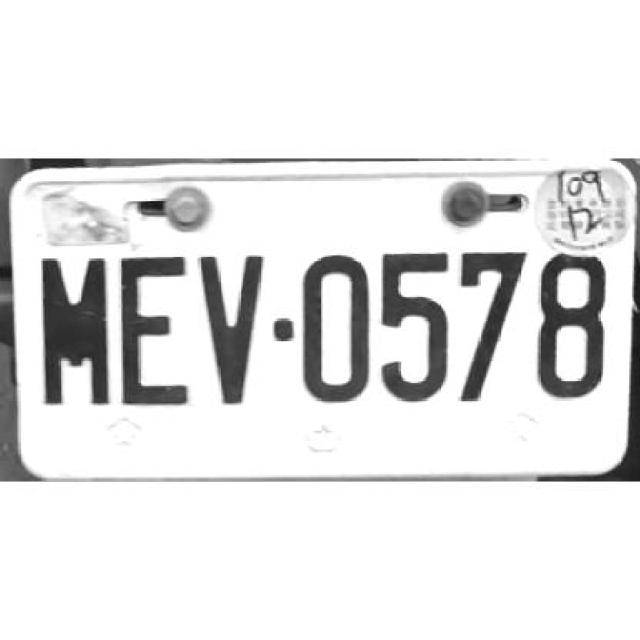-: (274, 315, 294, 340)
0: (303, 252, 369, 406)
5: (382, 252, 449, 403)
7: (460, 248, 529, 403)
8: (537, 253, 606, 402)
E: (119, 256, 190, 406)
M: (38, 256, 111, 404)
V: (197, 255, 265, 408)
